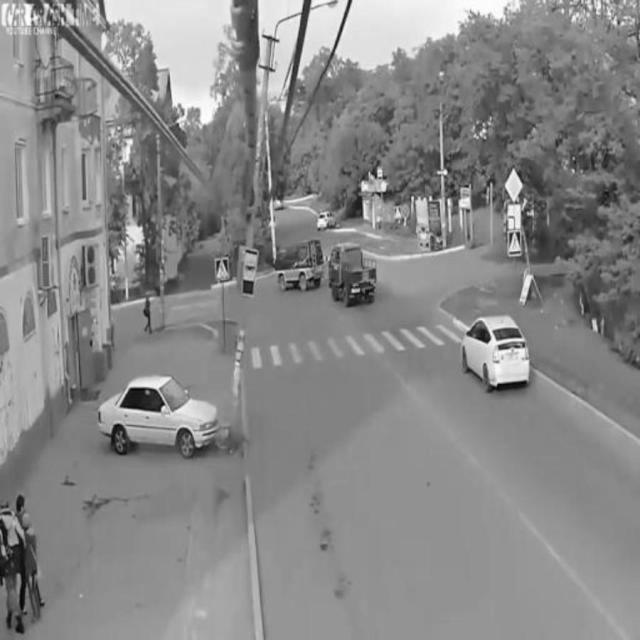person: (1, 492, 25, 636), (22, 508, 49, 624), (139, 290, 157, 341)
vehicle: (95, 378, 219, 464), (461, 313, 532, 399), (328, 239, 380, 310), (271, 237, 325, 295), (313, 208, 337, 232)
